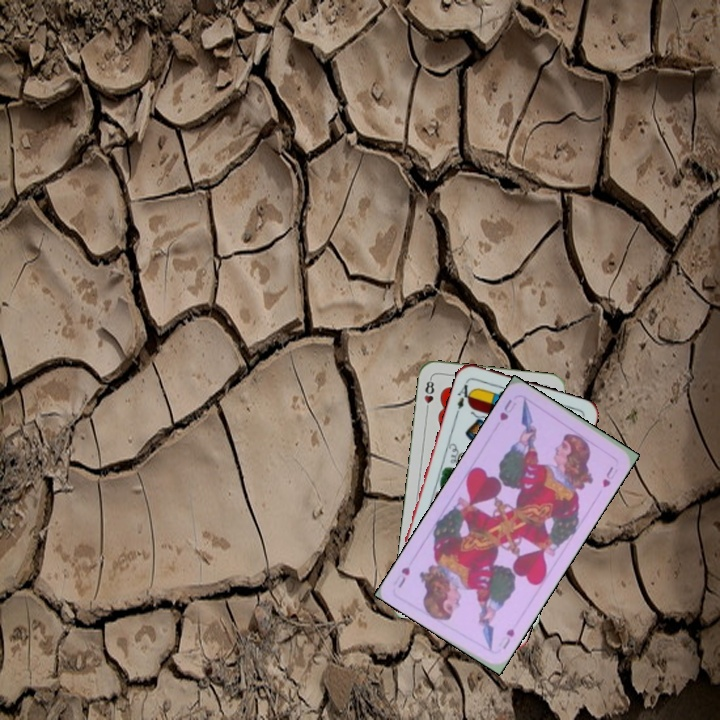EA: (452, 377, 476, 417)
H8: (420, 374, 437, 415)
HU: (496, 395, 519, 423), (498, 624, 517, 651)
